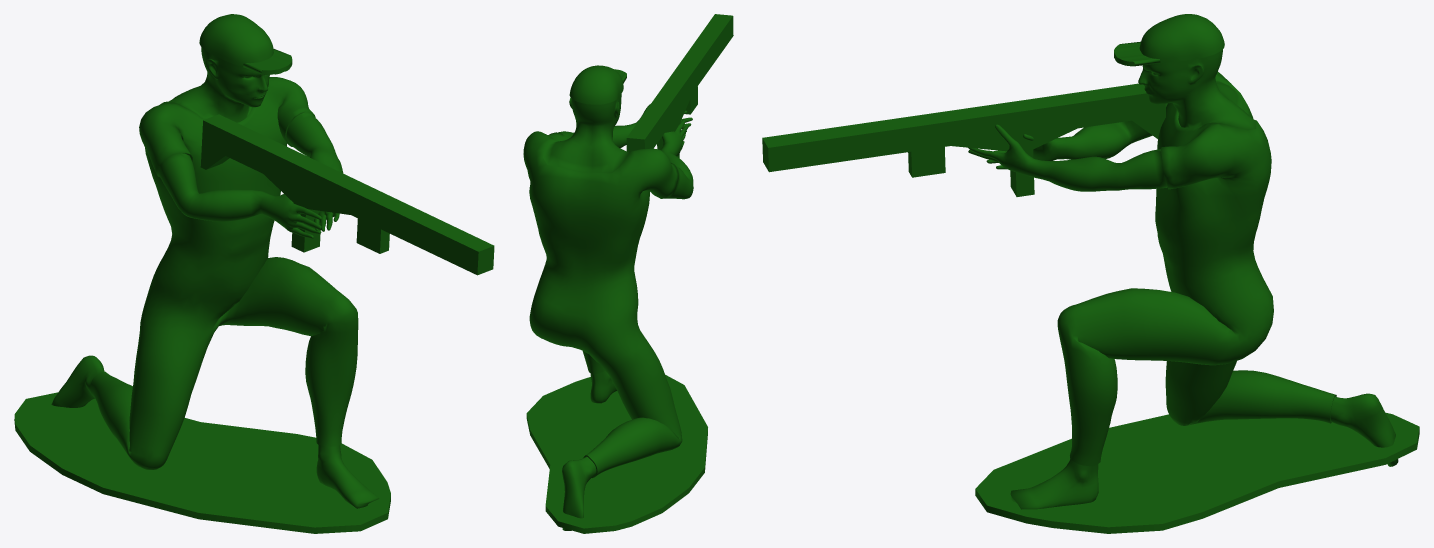
The model's file is Soldado2.fbx.
3 renders of one model, left to right at view 1: azimuth 30°, elevation 25°; view 2: azimuth 150°, elevation 25°; view 3: azimuth 270°, elevation 25°, orthographic. The views are drawn at different scales.
Visible parts, largest first — view 1: OldMan_low.001, Cube.001, Cube; view 2: OldMan_low.001, Cube.001, Cube; view 3: OldMan_low.001, Cube.001, Cube.
Boxes of the visible parts, x1,y1,x2,y2 form: OldMan_low.001: [51, 14, 379, 508]; Cube.001: [14, 392, 390, 533]; Cube: [200, 114, 494, 275]; OldMan_low.001: [523, 65, 693, 530]; Cube.001: [526, 375, 707, 533]; Cube: [626, 14, 733, 157]; OldMan_low.001: [968, 14, 1398, 509]; Cube.001: [975, 412, 1419, 533]; Cube: [762, 83, 1165, 196].
Bounding box in the file's own units: 69.72 × 127 × 157.
